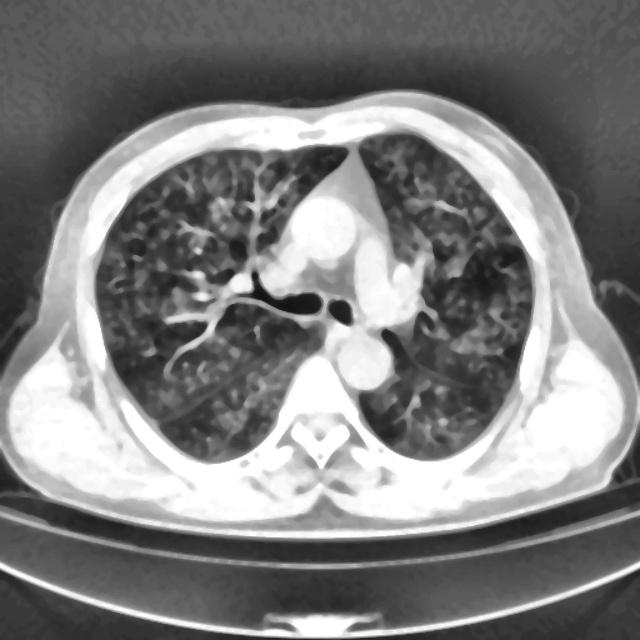covid: (1, 88, 638, 539)
